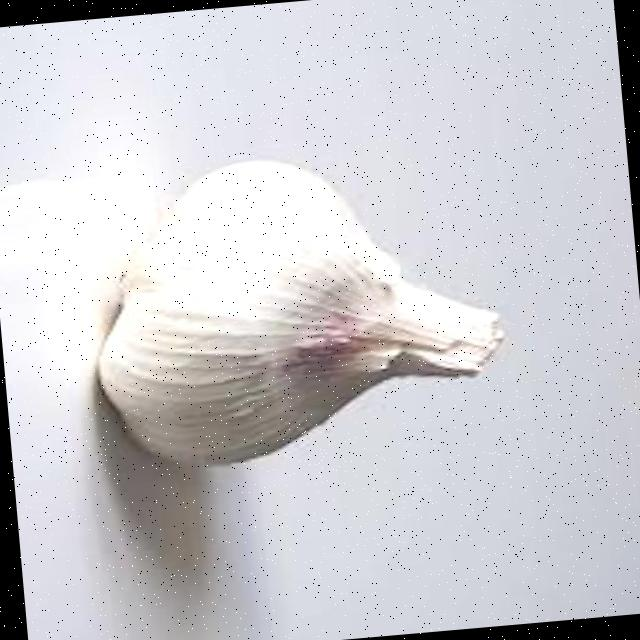garlic: (99, 161, 503, 464)
